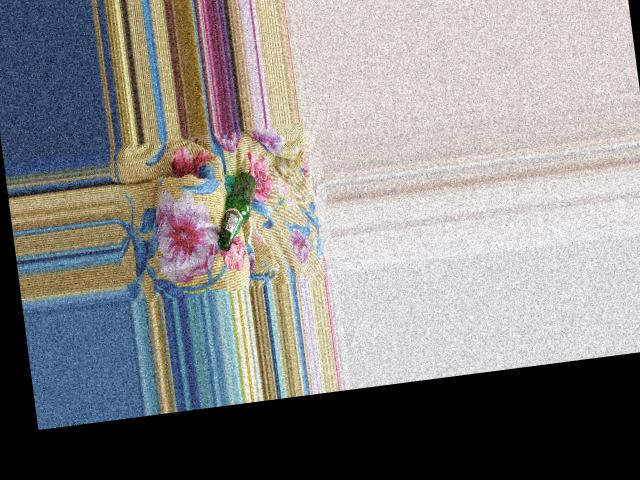beer: (208, 171, 263, 251)
